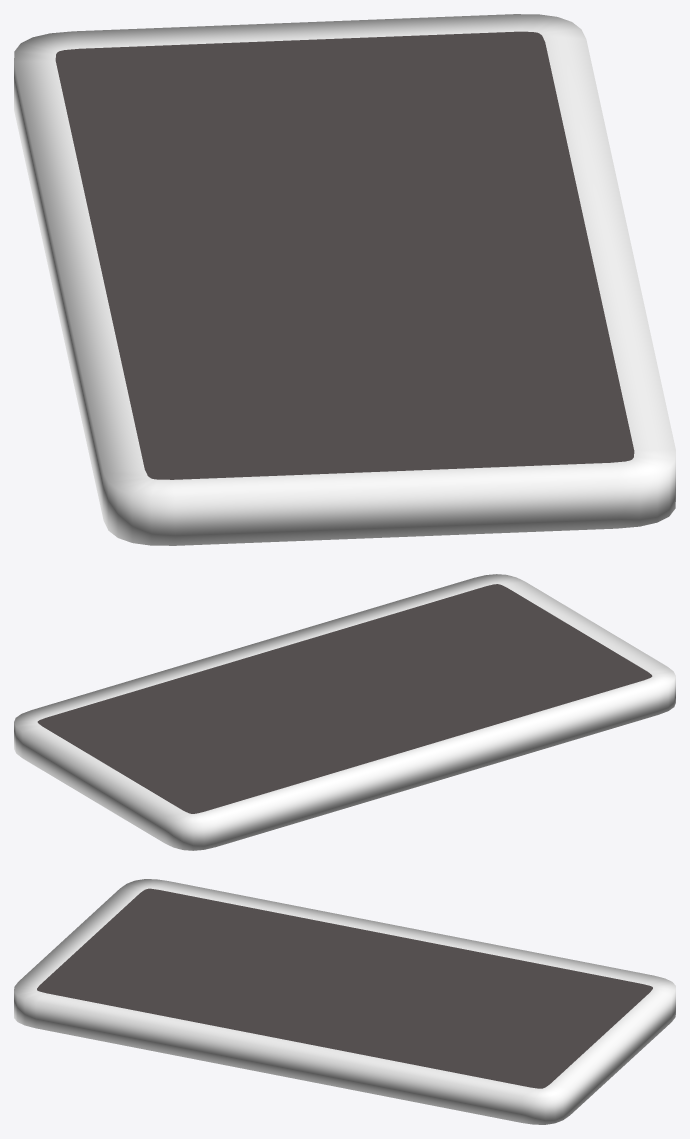
Rendered from smartphone.obj.
3 renders of one model, top to bottom at view 1: azimuth 30°, elevation 25°; view 2: azimuth 150°, elevation 25°; view 3: azimuth 270°, elevation 25°, orthographic. The views are drawn at different scales.
Visible parts, largest first — view 1: phone; view 2: phone; view 3: phone.
Part boxes in pixels (x1,y1,x2,y2): phone: (14, 14, 675, 545); phone: (14, 574, 675, 850); phone: (14, 879, 675, 1124).
Size of the model in its own units: 4.54 by 0.2563 by 5.8.
